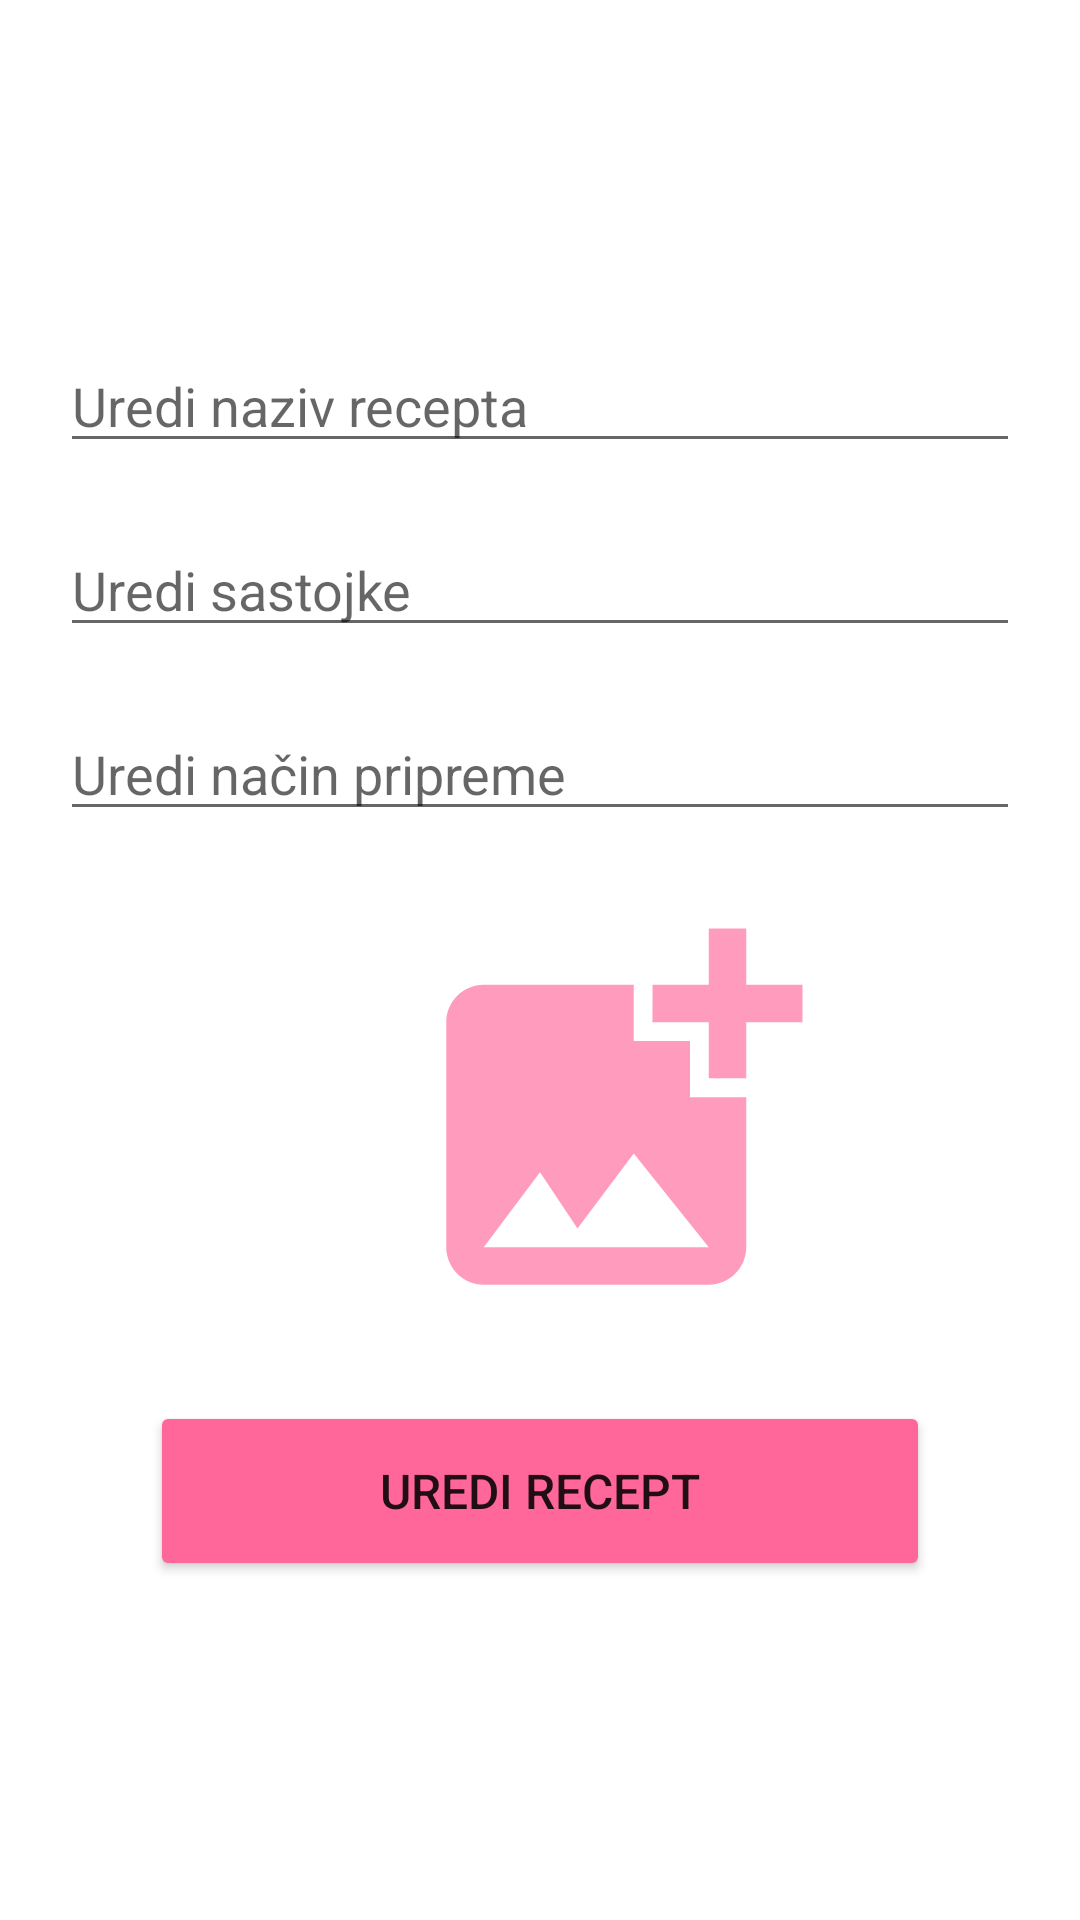

Named icons in this screenshot (1080 × 1920) and their centers, [x,y]:
add photo alternate: [624,1106]
